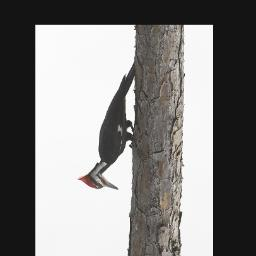Woodpecker: (77, 58, 135, 190)
